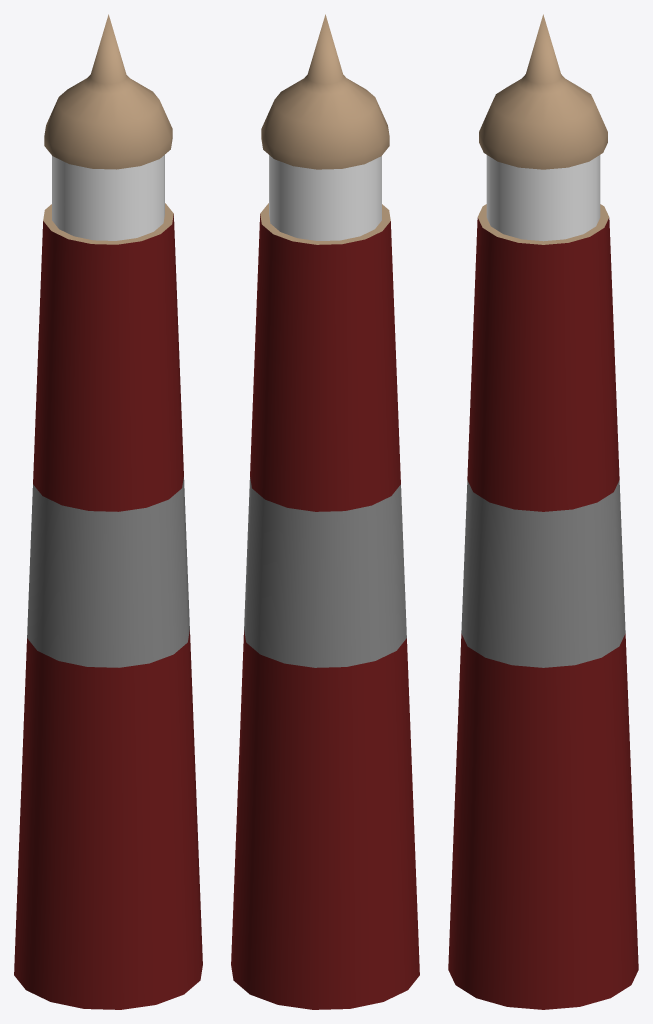
The model's file is LightHouse.FBX.
The picture shows the model from 3 angles, left to right: view 1: azimuth 30°, elevation 25°; view 2: azimuth 150°, elevation 25°; view 3: azimuth 270°, elevation 25°; orthographic projection.
Parts seen in each view (by area): view 1: Lighthouse; view 2: Lighthouse; view 3: Lighthouse.
Boxes of the visible parts, x1,y1,x2,y2 form: Lighthouse: (14,14,202,1009); Lighthouse: (231,14,419,1009); Lighthouse: (448,14,638,1009).
Bounding box in the file's own units: 11.45 × 63.4 × 11.45.
